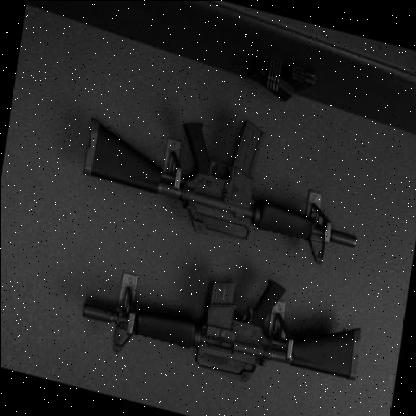rifle: (76, 231, 372, 414), (73, 84, 369, 267)
